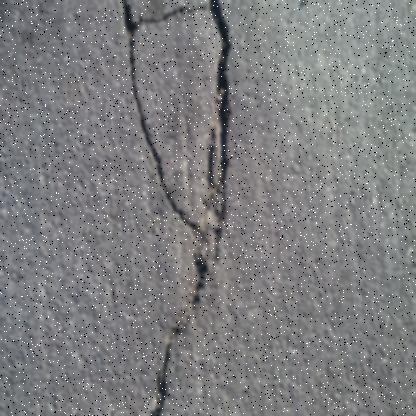Cracks: (119, 0, 237, 416)
